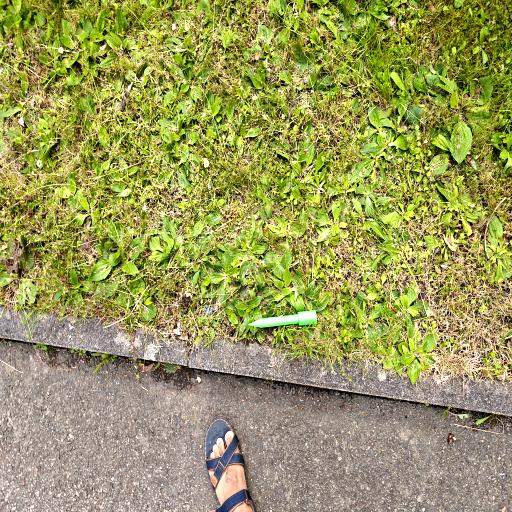Probe-Detection: (249, 310, 317, 328)
